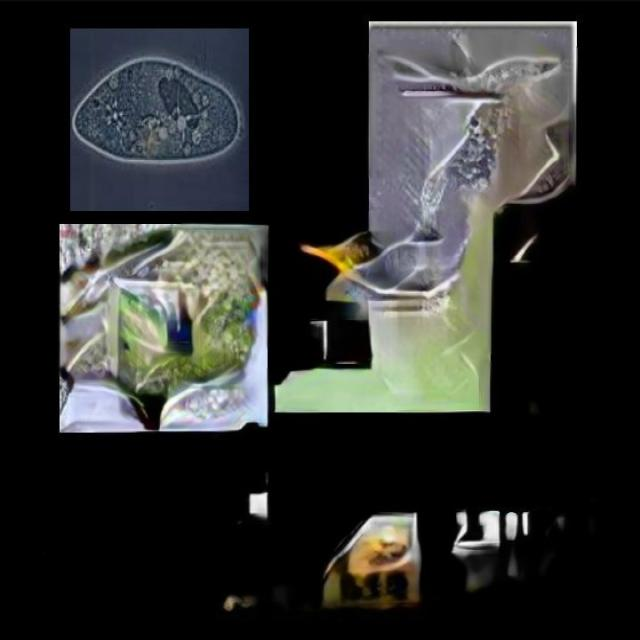Rod_bacteria: (59, 225, 264, 430)
